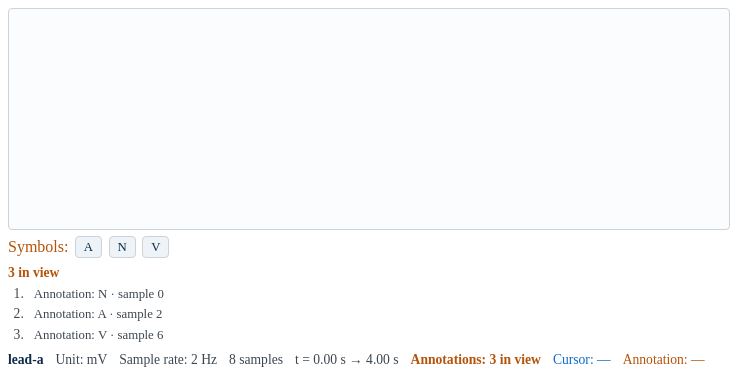
TimeSeriesView (jsdom slice) › annotation detail and symbol legend (Phase 15 item 3, Phase 17 item 2) › narrows the summary to a pressed symbol, keeping every toggle
Click the button "A": coordinates (89, 247) [75,236,102,258]
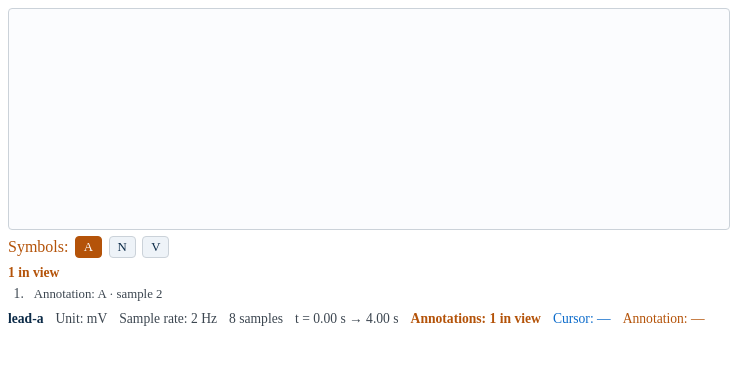
Expected: the text "Annotations: 1 in view" is shown, [411,311,541,327]
